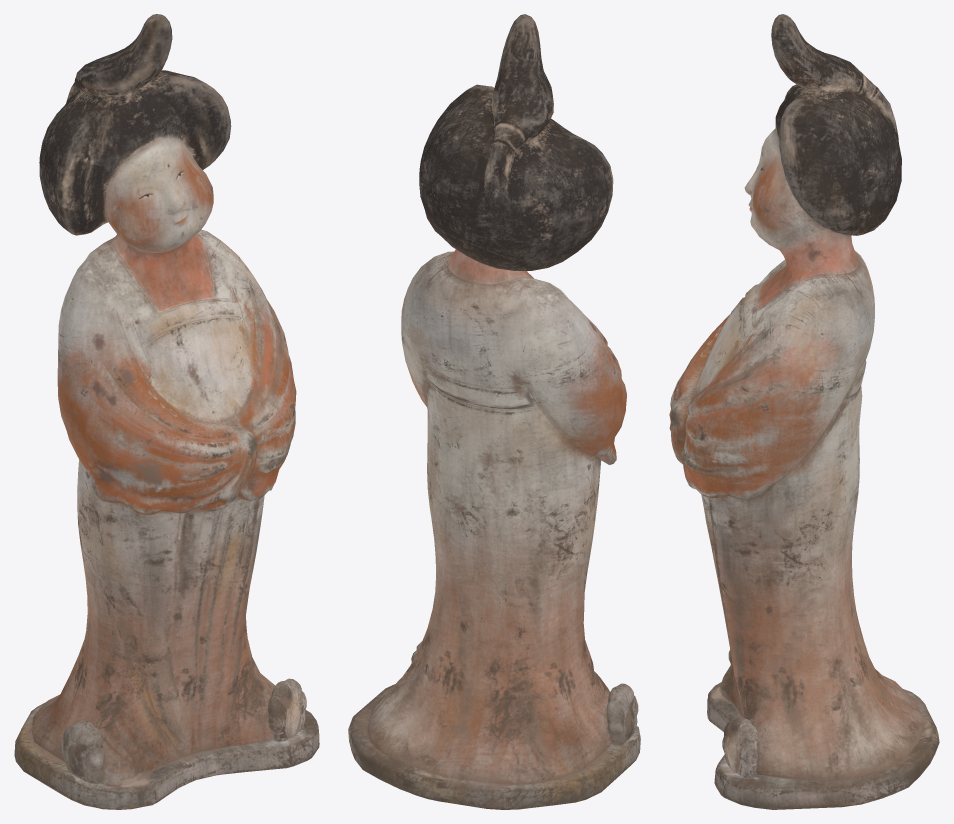
3 views of the same model, side by side, from view 1: azimuth 30°, elevation 25°; view 2: azimuth 150°, elevation 25°; view 3: azimuth 270°, elevation 25° (orthographic). The views are drawn at different scales.
Parts seen in each view (by area): view 1: Object_10; view 2: Object_10; view 3: Object_10.
Part boxes in pixels (x1,y1,x2,y2): Object_10: (14,14,319,809); Object_10: (348,14,640,809); Object_10: (669,14,939,809).
Bounding box in the file's own units: 6.01 × 16.75 × 5.66.
1 material, 1 textured.
